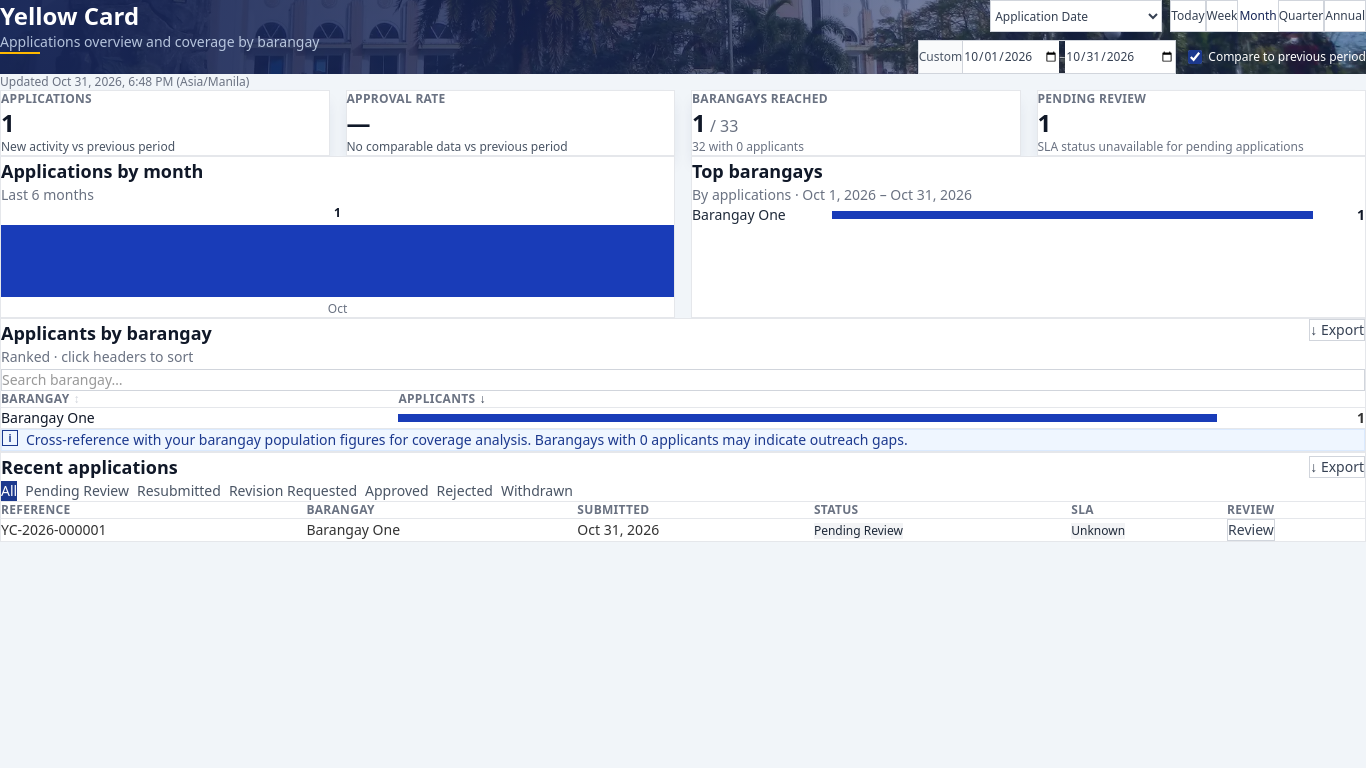
Scenario: YellowCardPage › a permission failure on export surfaces a message and downloads nothing
Expected: the text "YC-2026-000001" is shown, x1=1 y1=518 x2=306 y2=541
Click the button "↓ Export" in the row of "Recent applications" at (1337, 467), box x1=1309 y1=456 x2=1365 y2=478
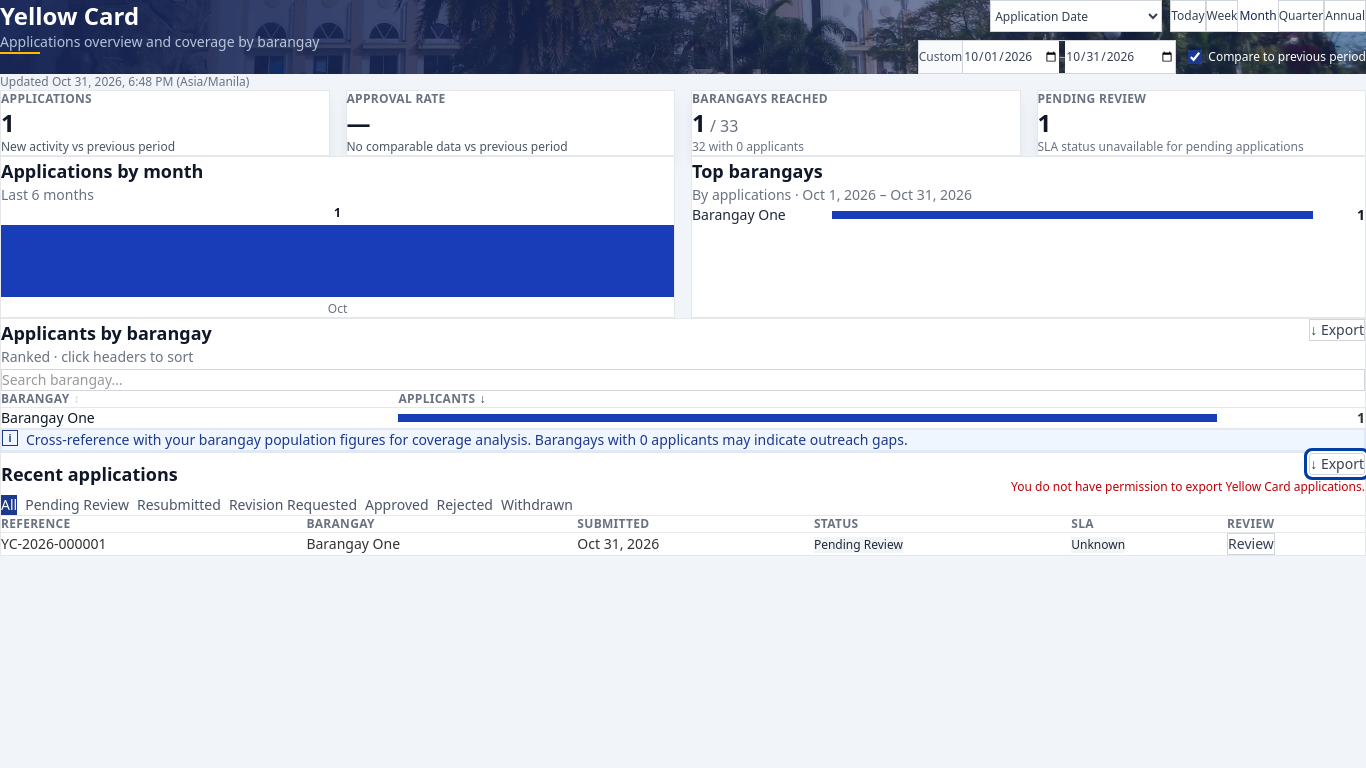
Now the text "You do not have permission to export Yellow Card applications." is shown, box x1=1011 y1=479 x2=1365 y2=495
